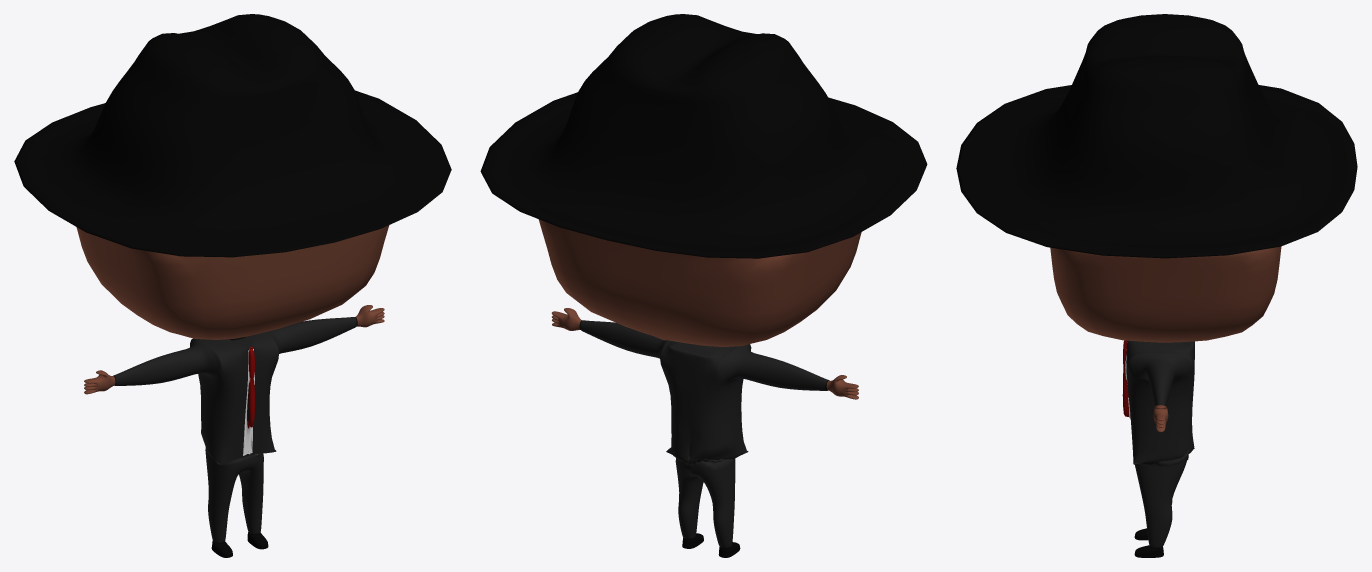
The model's file is AB_hitman without Sk.FBX.
The picture shows the model from 3 angles, left to right: view 1: azimuth 30°, elevation 25°; view 2: azimuth 150°, elevation 25°; view 3: azimuth 270°, elevation 25°; orthographic projection. The views are drawn at different scales.
Visible parts, largest first — view 1: Hitman; view 2: Hitman; view 3: Hitman.
Part boxes in pixels (x1=…): Hitman: x1=14, y1=14, x2=451, y2=557; Hitman: x1=480, y1=14, x2=927, y2=557; Hitman: x1=956, y1=14, x2=1357, y2=557.
Bounding box in the file's own units: 138 × 181 × 130.
